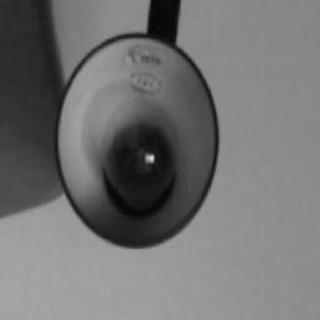other: (60, 35, 222, 242)
